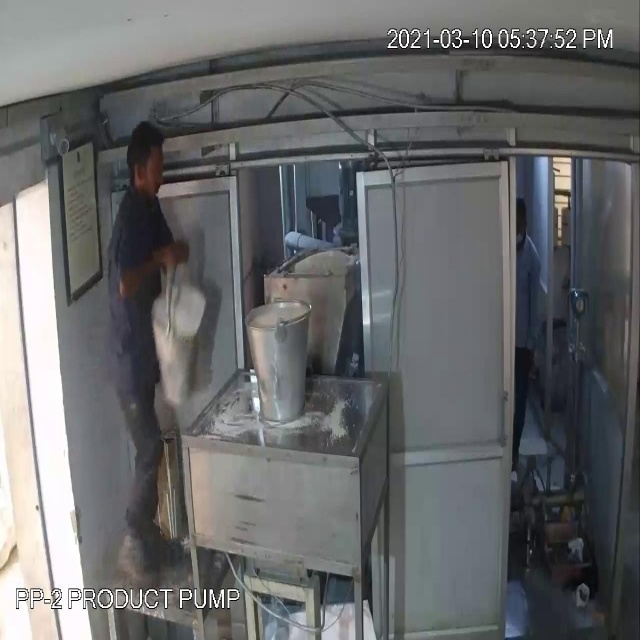Sin_guantes: (110, 247, 189, 308)
